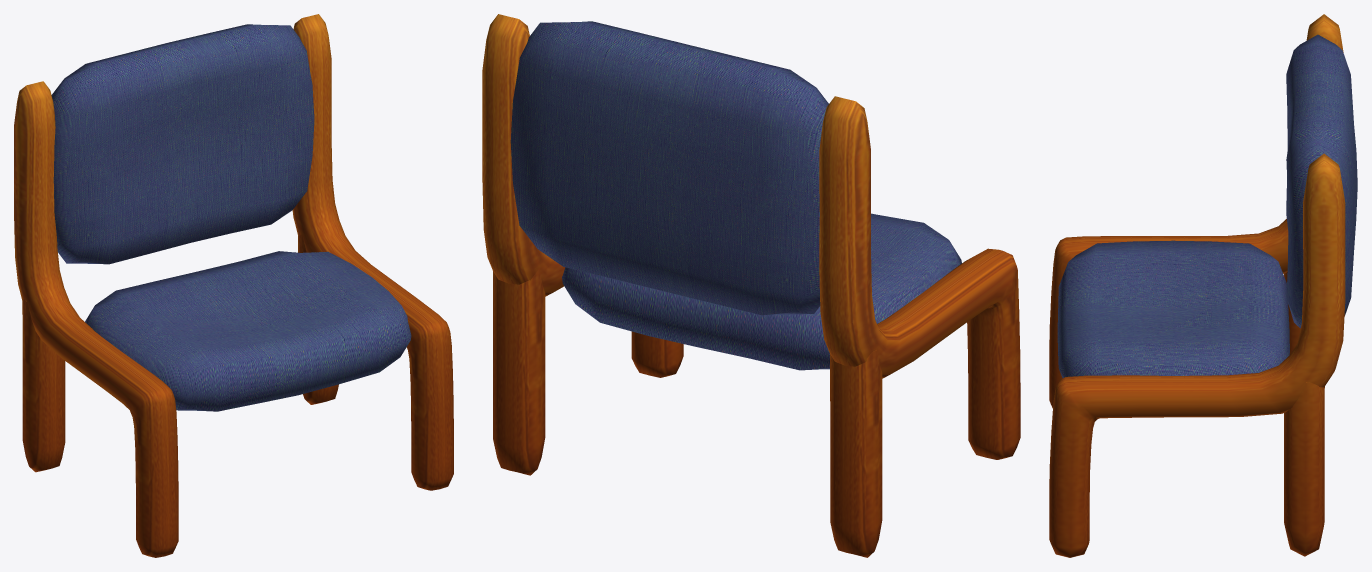
The model's file is normalchair.fbx.
3 views of the same model, side by side, from view 1: azimuth 30°, elevation 25°; view 2: azimuth 150°, elevation 25°; view 3: azimuth 270°, elevation 25° (orthographic). The views are drawn at different scales.
Visible parts, largest first — view 1: chair_seat, chair_tree; view 2: chair_seat, chair_tree; view 3: chair_seat, chair_tree.
Boxes of the visible parts, x1,y1,x2,y2 form: chair_seat: (51, 24, 411, 411); chair_tree: (14, 14, 453, 557); chair_seat: (510, 21, 961, 370); chair_tree: (482, 14, 1020, 557); chair_seat: (1057, 34, 1357, 378); chair_tree: (1049, 14, 1345, 557).
Size of the model in its own units: 11.35 by 13.56 by 9.4.
2 materials, 2 textured.
